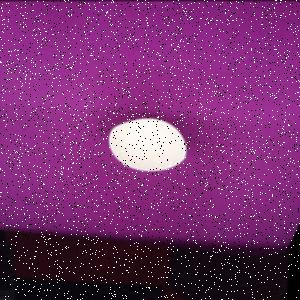Cup: (109, 118, 189, 172)
